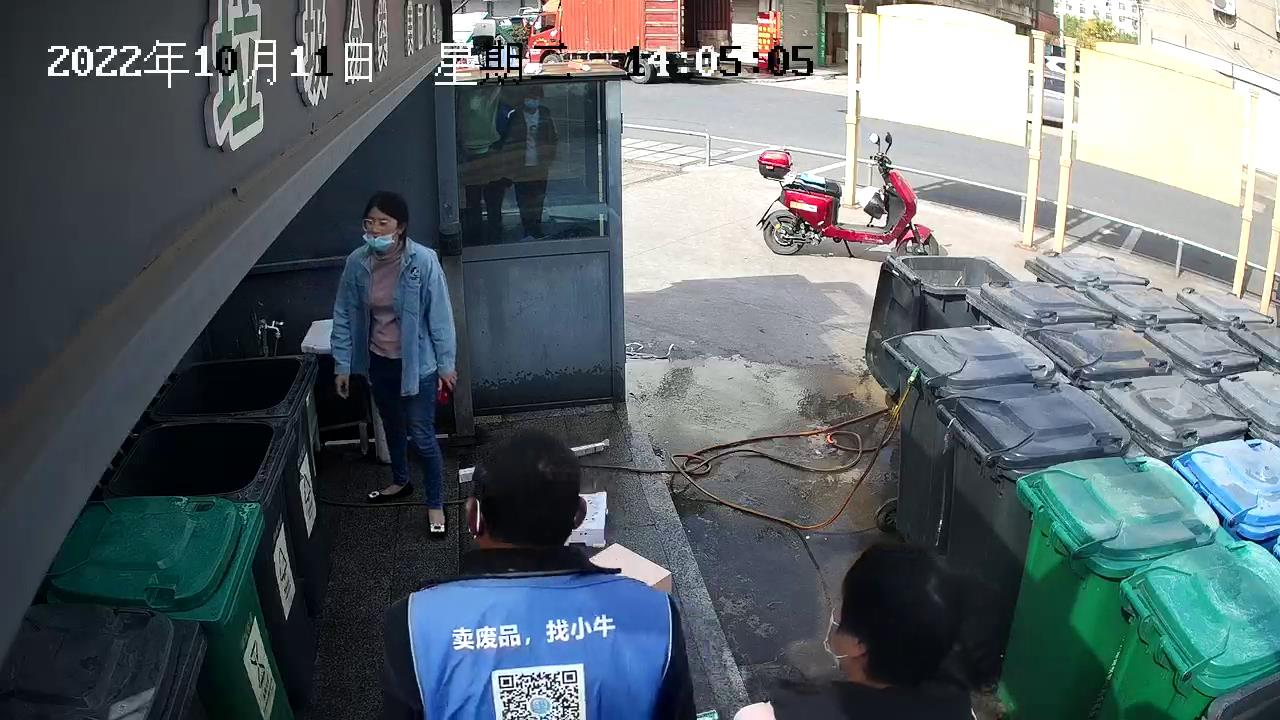person: (729, 540, 973, 720)
worker: (386, 425, 699, 720), (328, 189, 461, 540)
